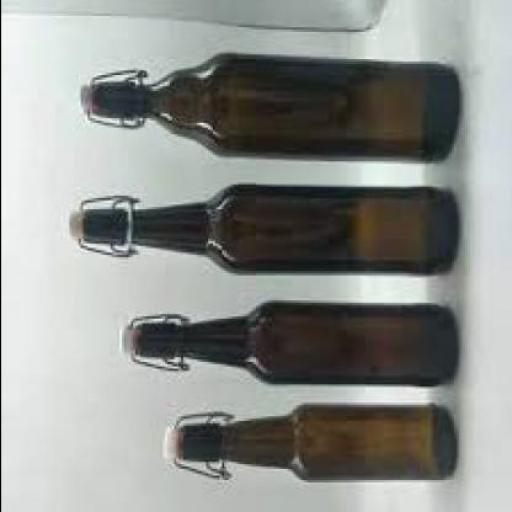glass: (91, 55, 455, 162), (82, 186, 455, 278), (134, 305, 453, 387), (175, 407, 453, 485)
plastic: (114, 326, 132, 360), (157, 430, 173, 466), (64, 212, 78, 246), (75, 86, 86, 118)
